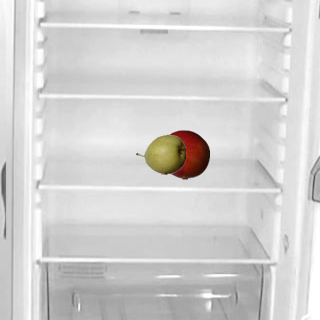Apple Braeburn: (159, 129, 209, 179)
Pear: (135, 129, 185, 179)
